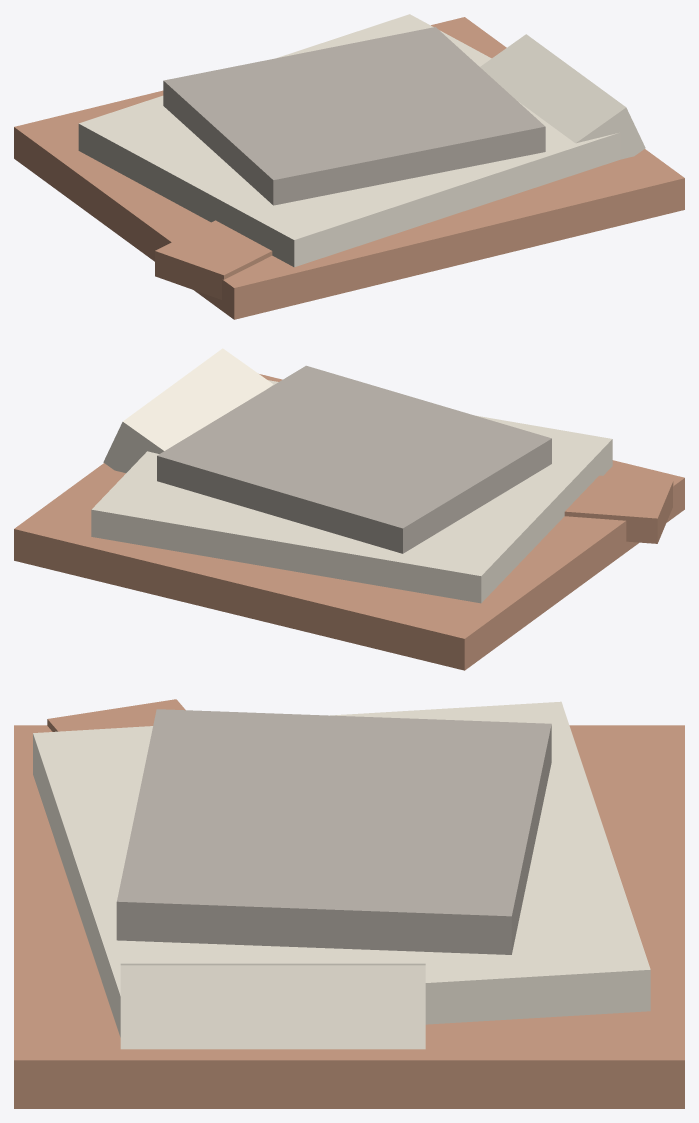
The model's file is clothes-pile-c.gltf.
The picture shows the model from 3 angles, top to bottom: view 1: azimuth 30°, elevation 25°; view 2: azimuth 150°, elevation 25°; view 3: azimuth 270°, elevation 25°; orthographic projection. The views are drawn at different scales.
Parts seen in each view (by area): view 1: heap_top, heap_base, heap_mid, drape, sleeve; view 2: heap_top, heap_base, heap_mid, drape, sleeve; view 3: heap_top, heap_base, heap_mid, drape, sleeve.
Boxes of the visible parts, box(x1,y1,x2,y2) form: heap_top: box(163, 27, 545, 205); heap_base: box(14, 17, 684, 319); heap_mid: box(78, 14, 620, 267); drape: box(480, 34, 645, 159); sleeve: box(155, 220, 272, 299); heap_top: box(157, 365, 551, 553); heap_base: box(14, 374, 684, 670); heap_mid: box(91, 380, 612, 603); drape: box(103, 348, 273, 472); sleeve: box(564, 475, 673, 543); heap_top: box(116, 709, 551, 954); heap_base: box(14, 725, 684, 1108); heap_mid: box(33, 701, 650, 1037); drape: box(120, 963, 425, 1049); sleeve: box(47, 699, 185, 731).
Size of the model in its own units: 0.0344 by 0.00682 by 0.0275.
